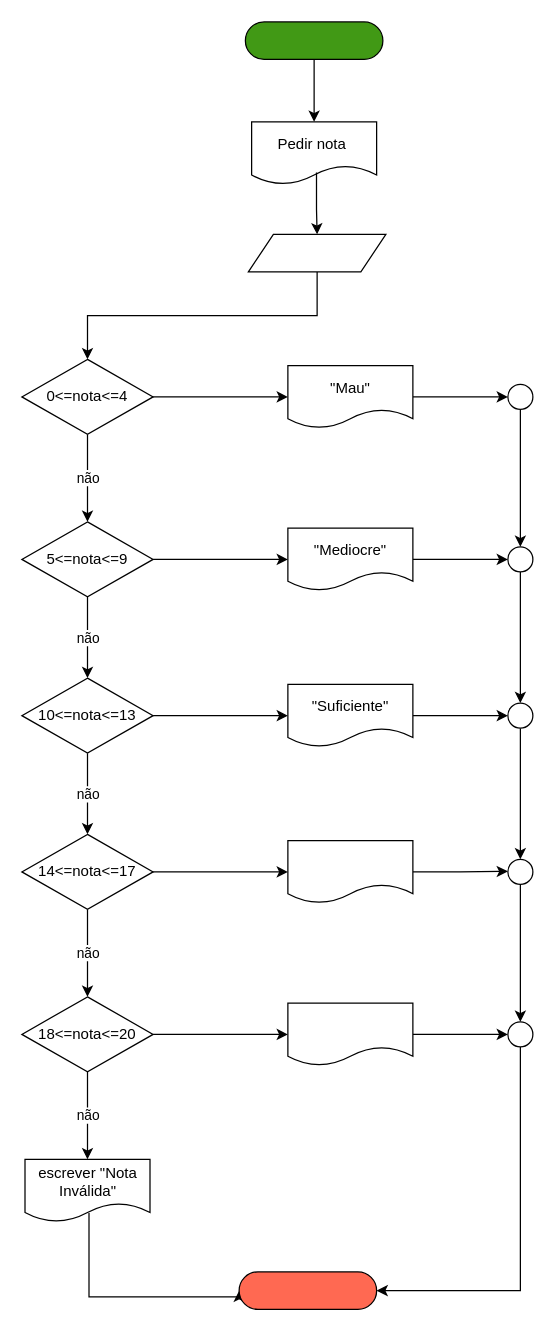
The diagram is 555 pixels wide and 1331 high, and some of its shapes have lost their labels. Each missing label, with the centre of its shape:
"Bom": the point at 350,871
"Muito Bom": the point at 350,1034
fim: the point at 307,1290
Inicío: the point at 313,40
ler nota: the point at 316,252
